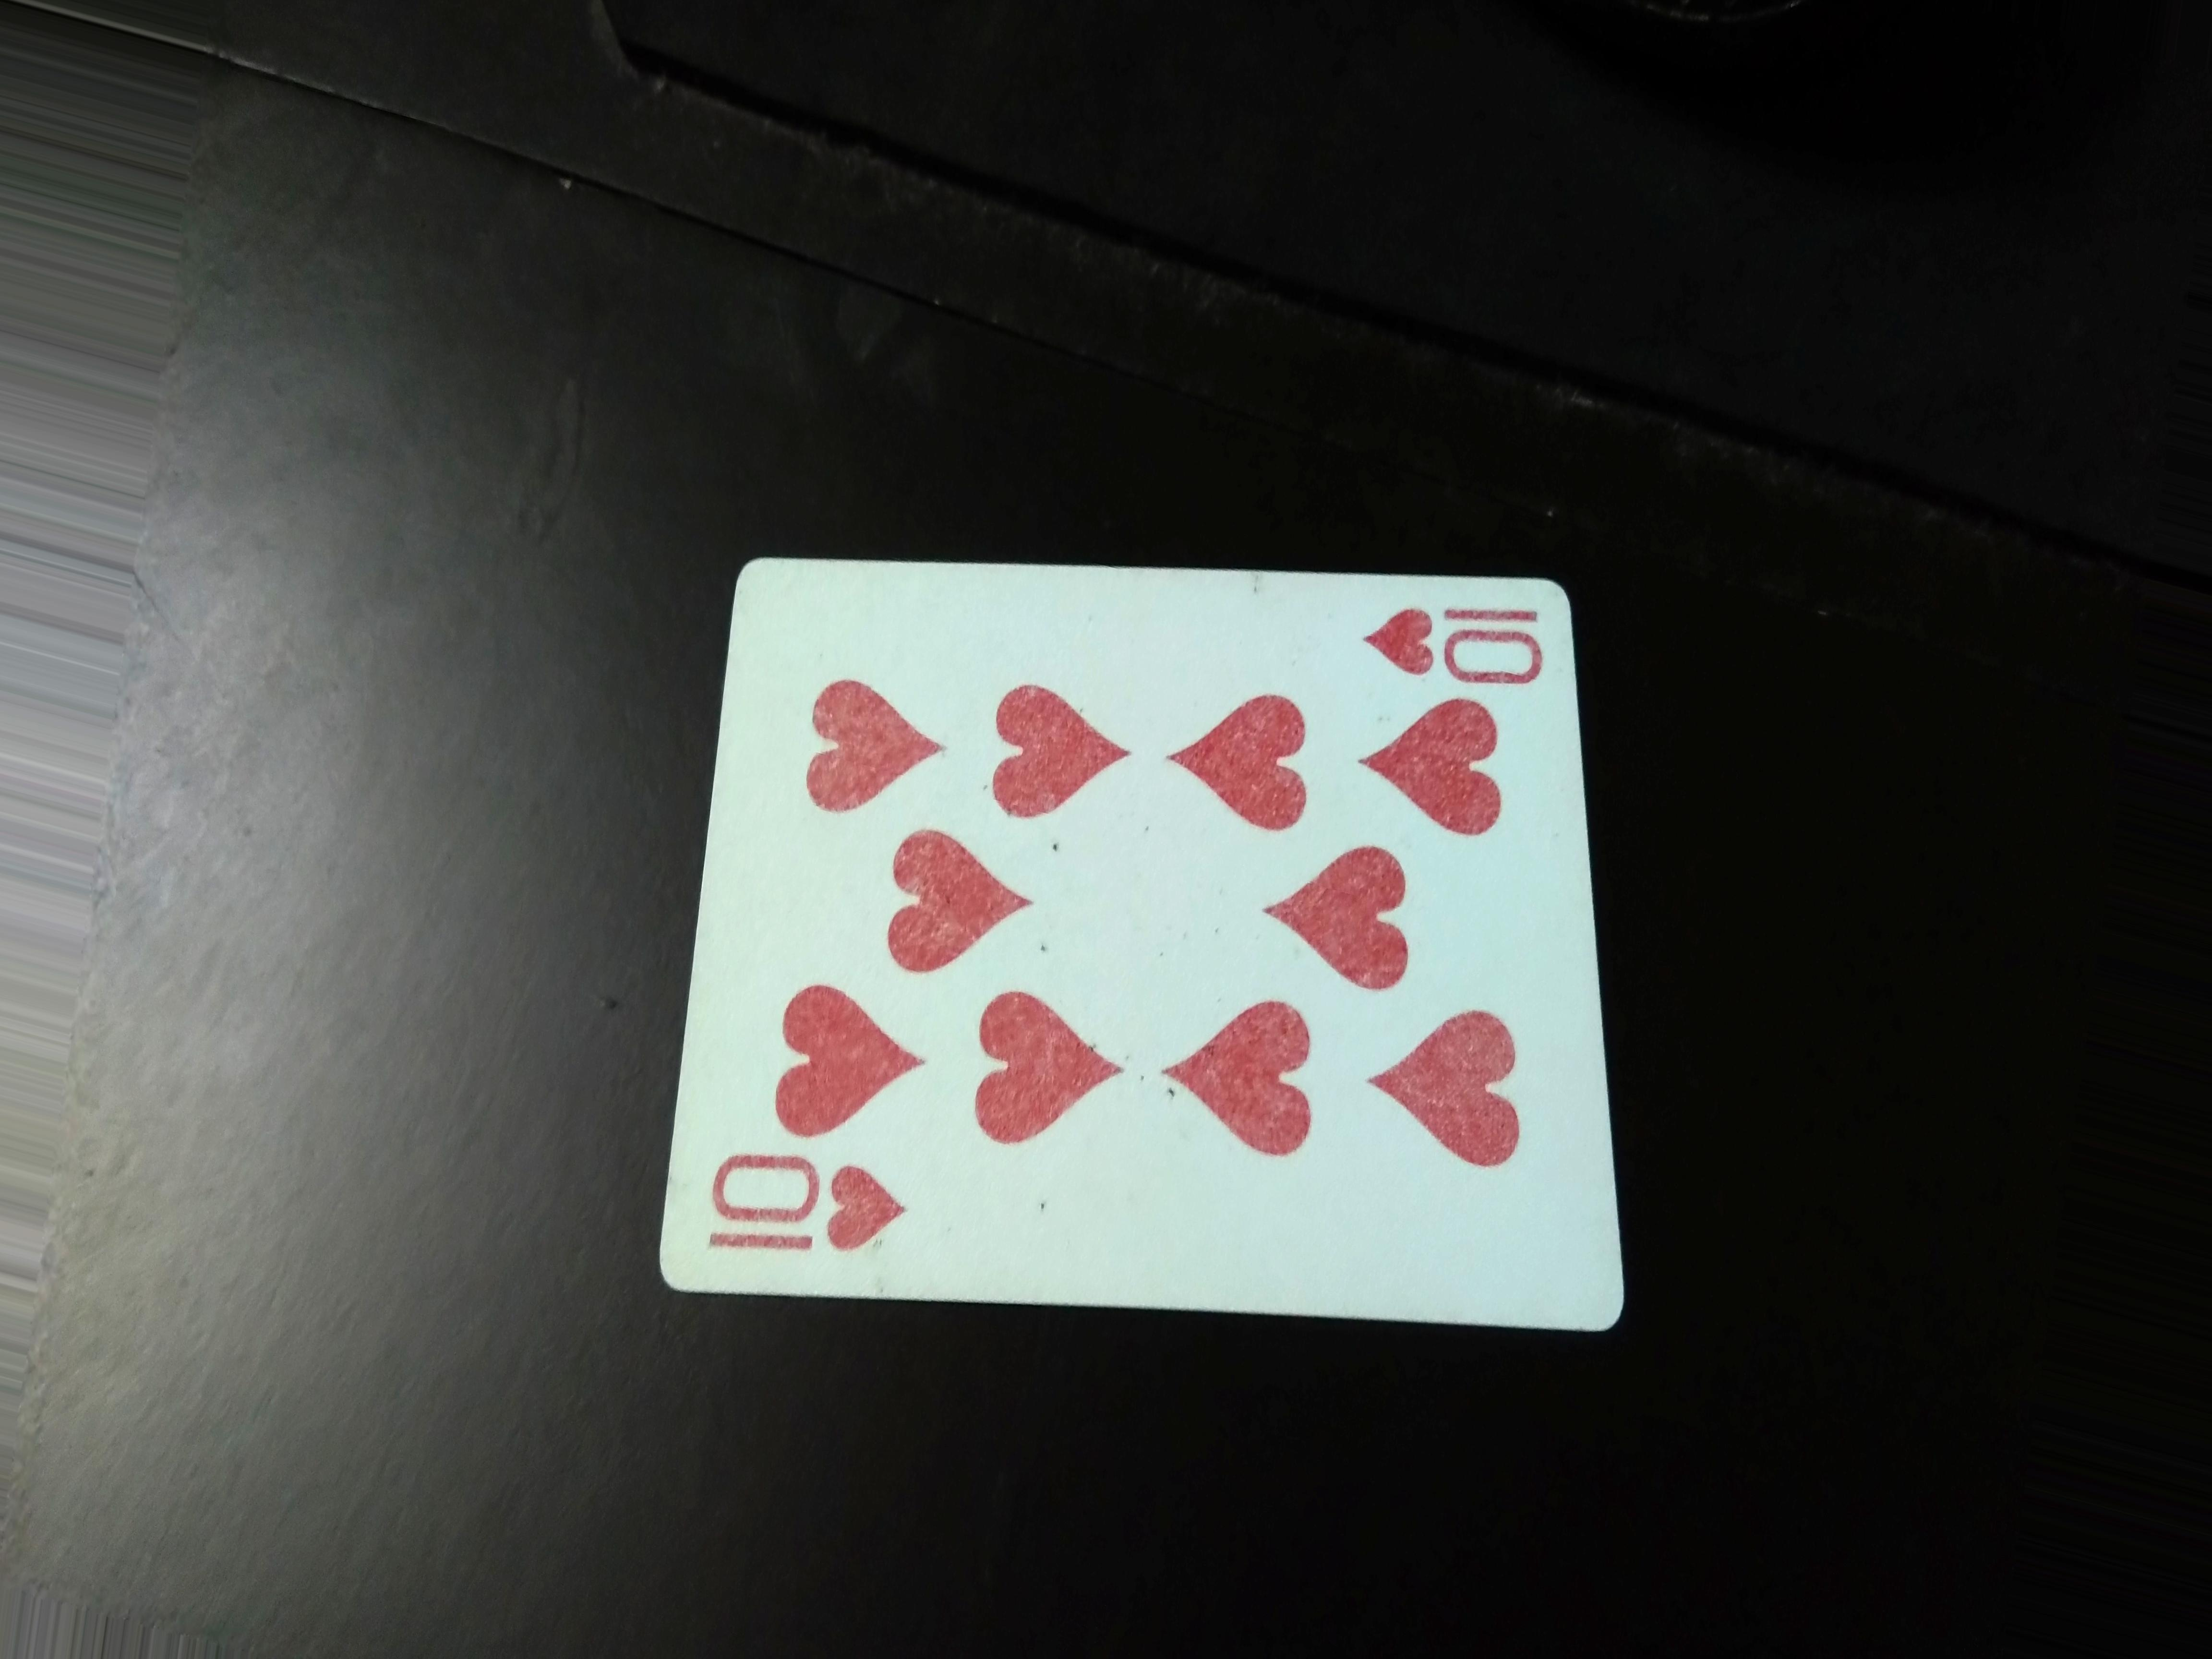10H: (1332, 589, 1581, 692)
